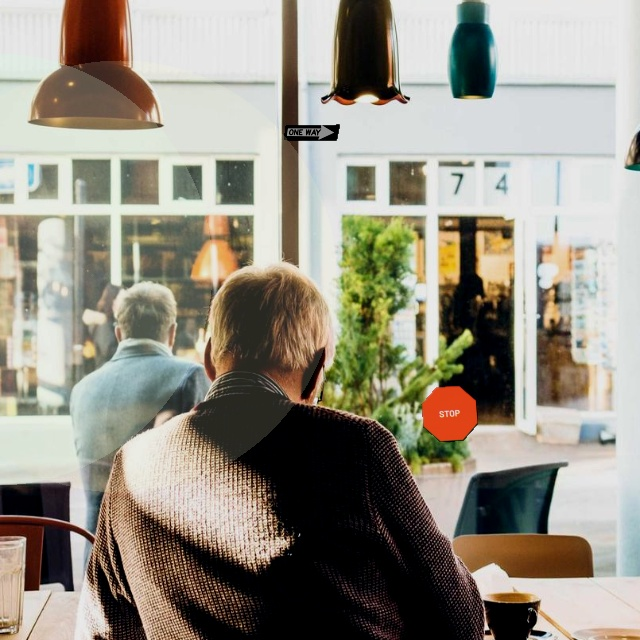ONE_WAY_ right: (283, 124, 340, 141)
STOP: (421, 385, 478, 442)
